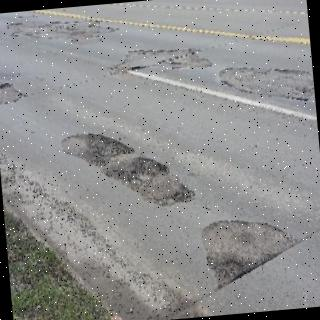pothole: (62, 134, 194, 209), (202, 220, 301, 289), (218, 67, 315, 103), (112, 45, 212, 76), (11, 23, 117, 44), (0, 81, 29, 104)
